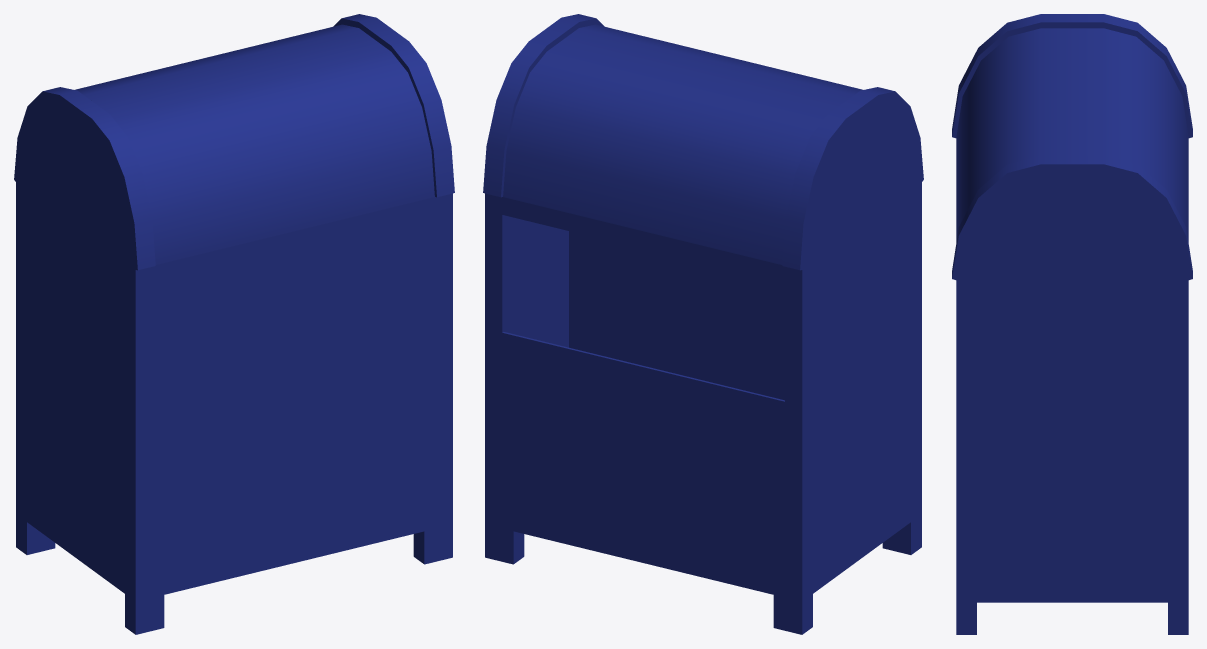
The model's file is mailbox.fbx.
3 views of the same model, side by side, from view 1: azimuth 30°, elevation 25°; view 2: azimuth 150°, elevation 25°; view 3: azimuth 270°, elevation 25° (orthographic). The views are drawn at different scales.
Visible parts, largest first — view 1: 立方体; view 2: 立方体; view 3: 立方体.
Boxes of the visible parts, x1=… form: 立方体: x1=14, y1=14, x2=454, y2=634; 立方体: x1=483, y1=14, x2=923, y2=634; 立方体: x1=952, y1=14, x2=1192, y2=634.
Bounding box in the file's own units: 1 × 1.46 × 0.6767.
